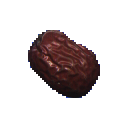gd: (24, 21, 110, 105)
